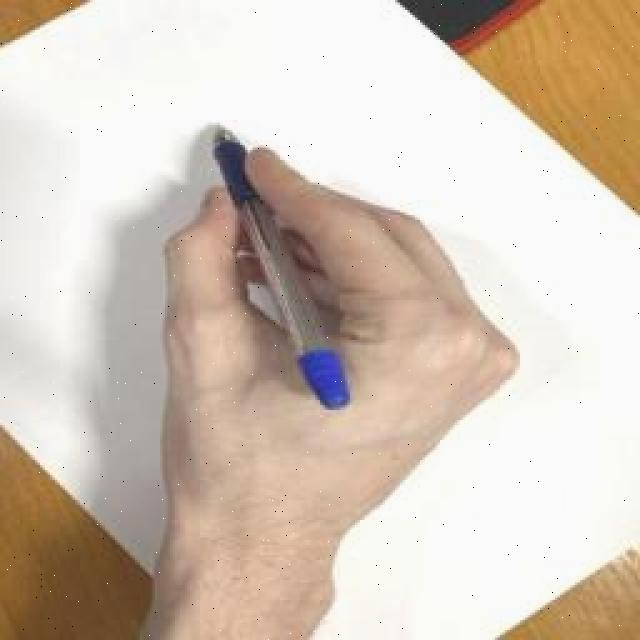pen: (210, 122, 350, 410)
